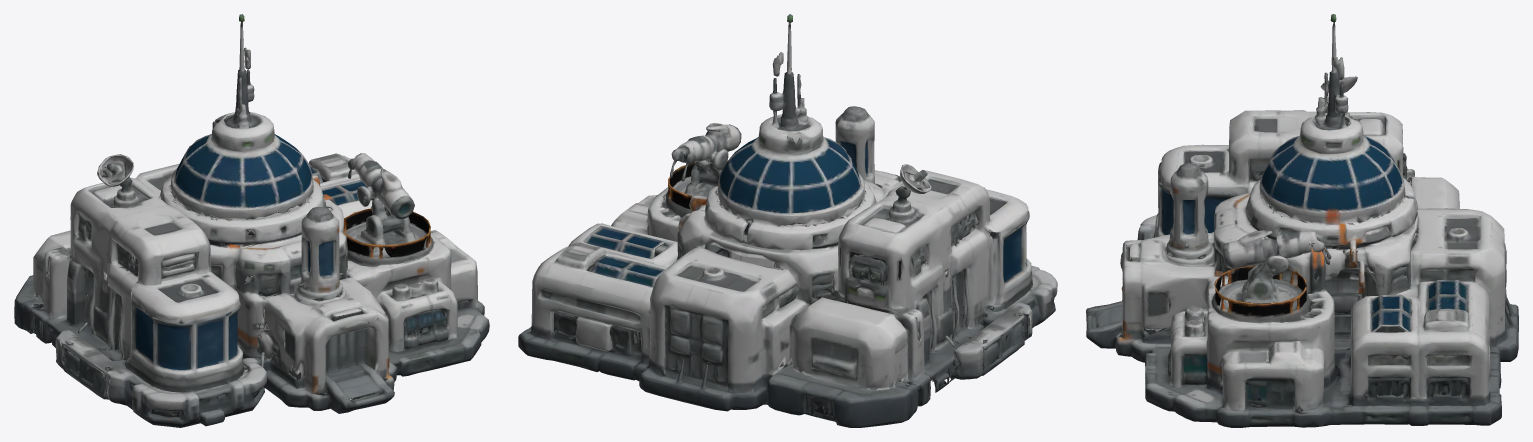
The model's file is research-lab.glb.
3 renders of one model, left to right at view 1: azimuth 30°, elevation 25°; view 2: azimuth 150°, elevation 25°; view 3: azimuth 270°, elevation 25°, orthographic. The views are drawn at different scales.
Parts seen in each view (by area): view 1: world; view 2: world; view 3: world.
Part boxes in pixels (x1=…): world: x1=14, y1=14, x2=489, y2=427; world: x1=518, y1=14, x2=1057, y2=427; world: x1=1086, y1=14, x2=1518, y2=427.
Size of the model in its own units: 1 by 0.8079 by 0.9796.
1 material, 1 textured.
